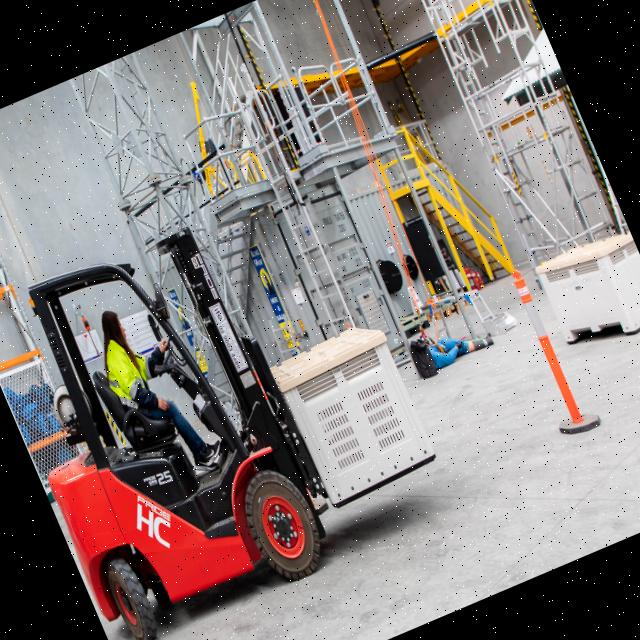Person: (80, 287, 225, 488)
